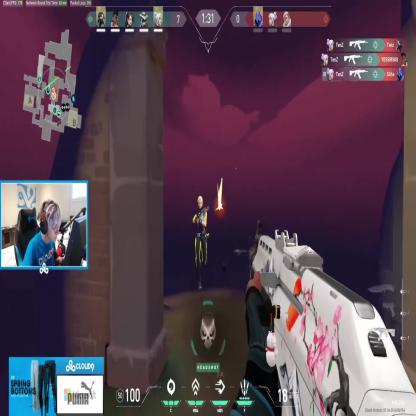enemy: (192, 192, 207, 288)
enemy_head: (197, 196, 203, 209)
